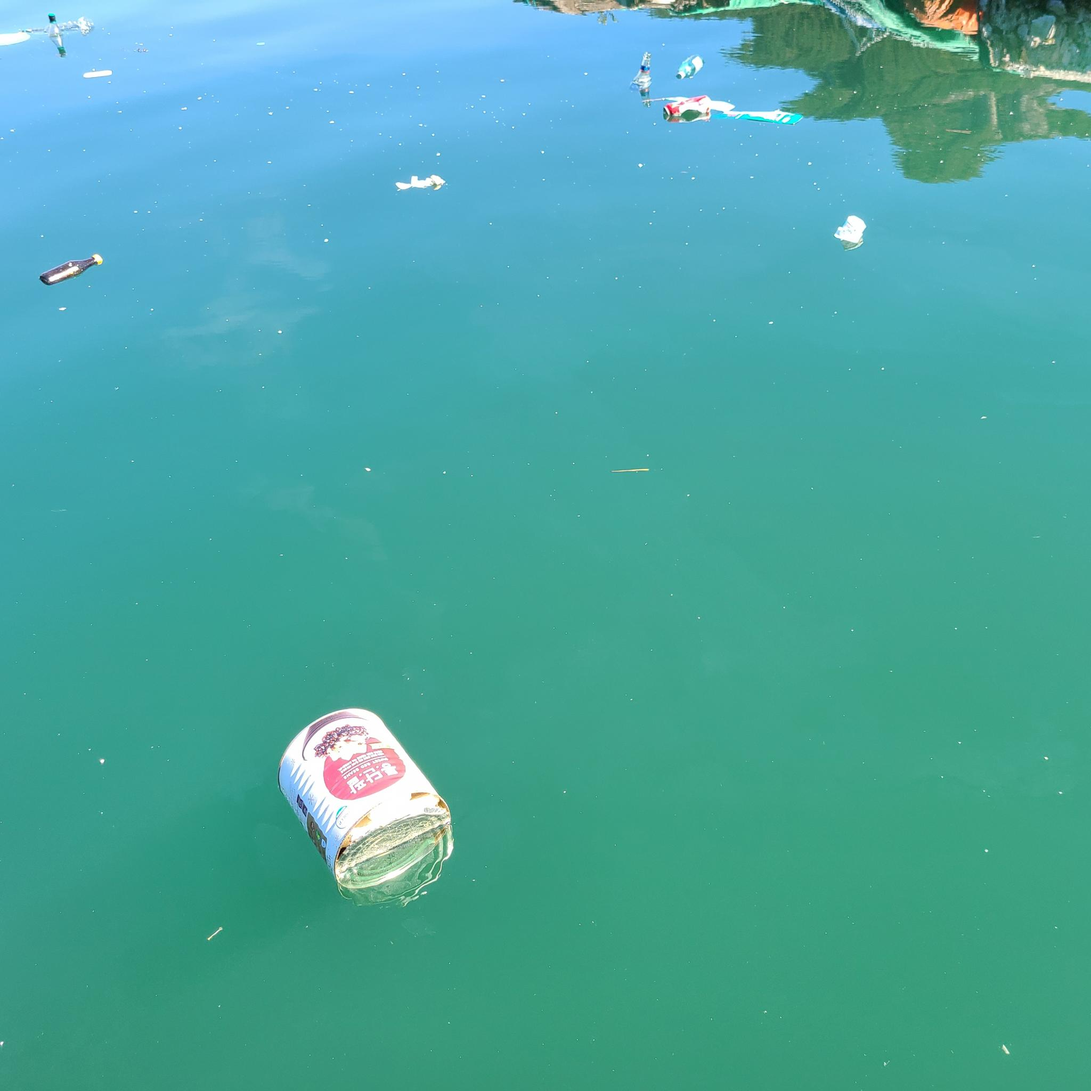sampah_terapung: (39, 254, 103, 286), (664, 95, 712, 117), (834, 216, 867, 244), (676, 55, 704, 80), (633, 52, 652, 84), (48, 13, 64, 38)
